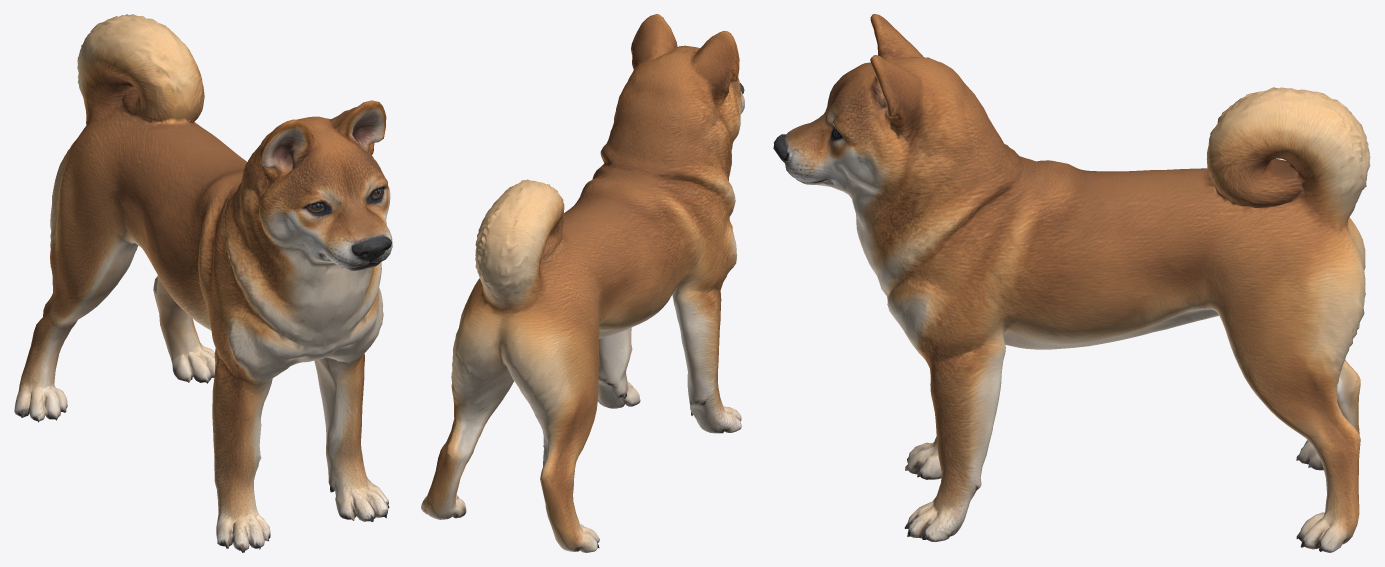
File: shiba.glb
The picture shows the model from 3 angles, left to right: view 1: azimuth 30°, elevation 25°; view 2: azimuth 150°, elevation 25°; view 3: azimuth 270°, elevation 25°; orthographic projection. The views are drawn at different scales.
Visible parts, largest first — view 1: tripo_node_b24826db-05ee-4698-84b2-883fc33088ff; view 2: tripo_node_b24826db-05ee-4698-84b2-883fc33088ff; view 3: tripo_node_b24826db-05ee-4698-84b2-883fc33088ff.
Part boxes in pixels (bbox=[...]): tripo_node_b24826db-05ee-4698-84b2-883fc33088ff: bbox=[14, 14, 392, 552]; tripo_node_b24826db-05ee-4698-84b2-883fc33088ff: bbox=[421, 14, 744, 552]; tripo_node_b24826db-05ee-4698-84b2-883fc33088ff: bbox=[773, 14, 1370, 552].
Size of the model in its own units: 0.4205 by 0.8632 by 1.
1 material, 1 textured.
